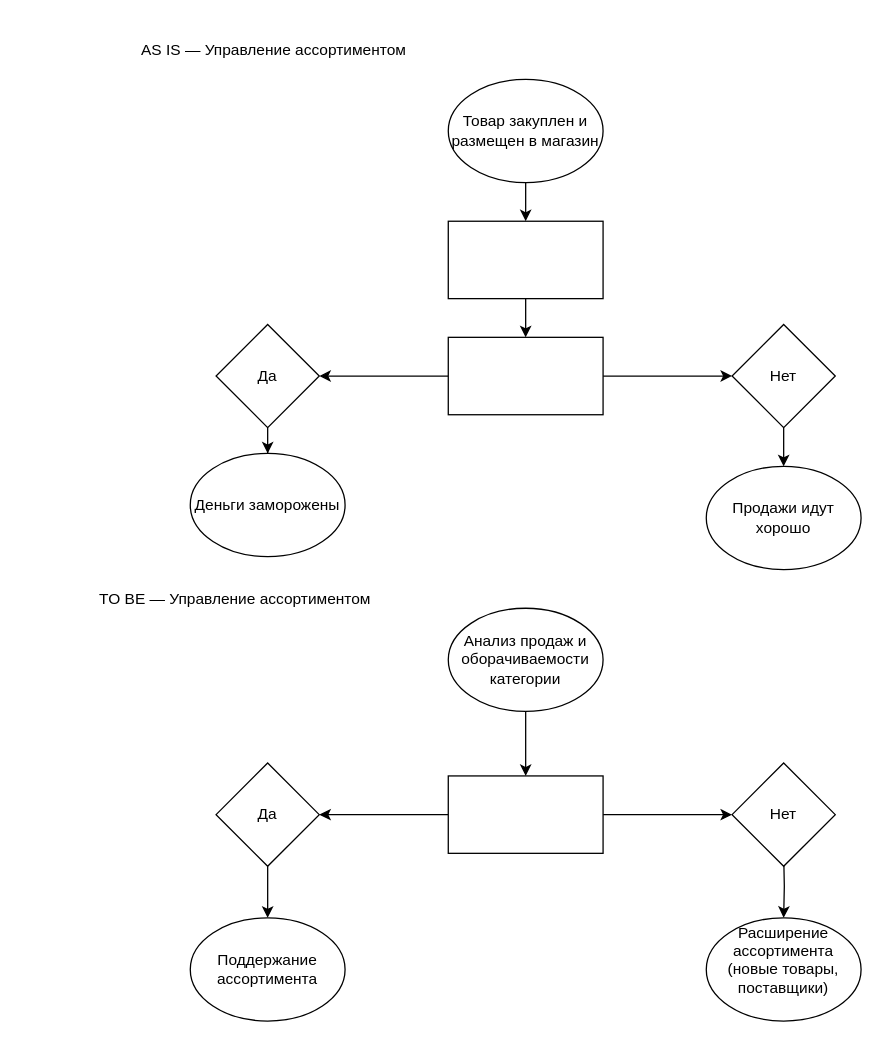
Image size: 884x1057. Some labels were removed from this diagram. Each missing label, with the centre of its shape:
"Категория эффективна" goes at (x=525, y=814).
"Продажа товара" goes at (x=525, y=259).
"Товар продается медленно" goes at (x=525, y=375).
